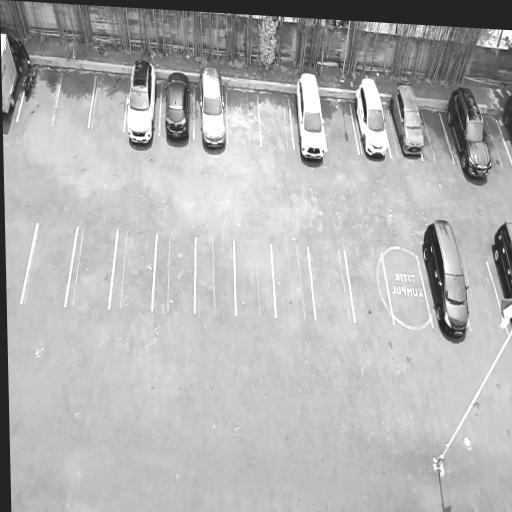Car: (417, 217, 473, 343), (441, 84, 500, 179), (350, 72, 393, 162), (385, 77, 427, 163), (292, 73, 329, 163), (123, 56, 157, 151), (196, 62, 227, 154), (1, 23, 27, 121), (162, 65, 192, 146), (489, 218, 512, 316)
Space Available: (22, 222, 77, 308), (65, 226, 118, 309), (108, 228, 156, 309), (381, 253, 433, 327), (344, 250, 393, 324), (460, 258, 507, 334), (152, 232, 196, 312), (308, 247, 355, 320), (271, 244, 315, 320), (233, 240, 276, 317), (195, 235, 236, 314), (88, 70, 131, 131), (54, 68, 96, 127), (321, 94, 358, 153), (257, 91, 294, 148), (418, 107, 455, 163), (227, 85, 261, 145), (482, 112, 512, 170)
